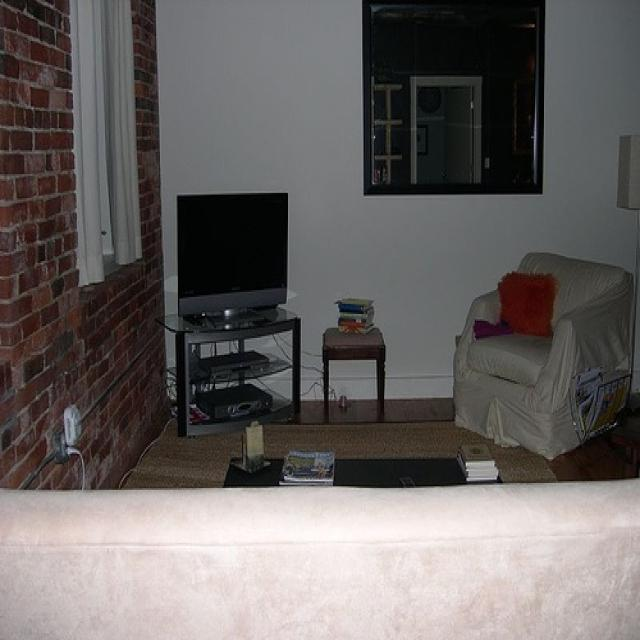chair: (452, 249, 637, 459)
sofa: (1, 476, 639, 638)
tvmonitor: (177, 190, 289, 322)
